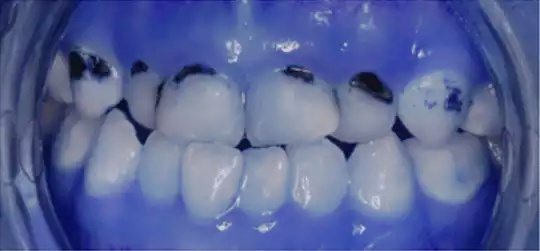karies: (349, 71, 393, 102), (67, 51, 114, 80), (172, 61, 219, 82), (282, 63, 316, 87), (149, 76, 170, 107), (126, 58, 151, 76)
